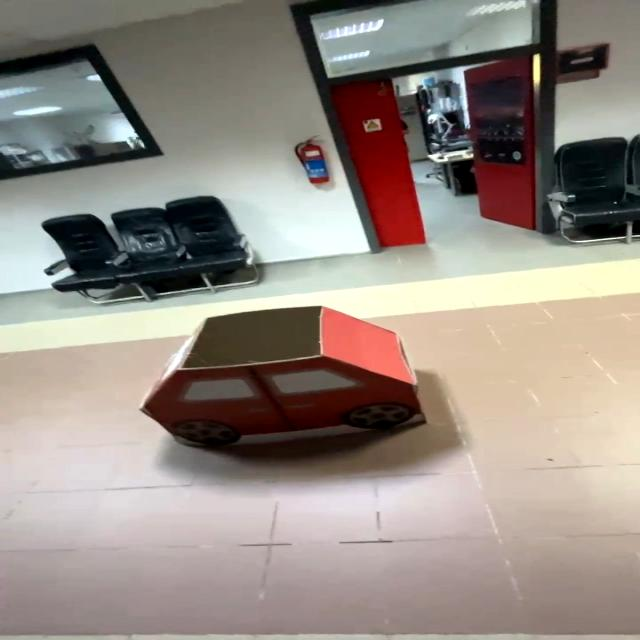red_car: (85, 295, 462, 479)
